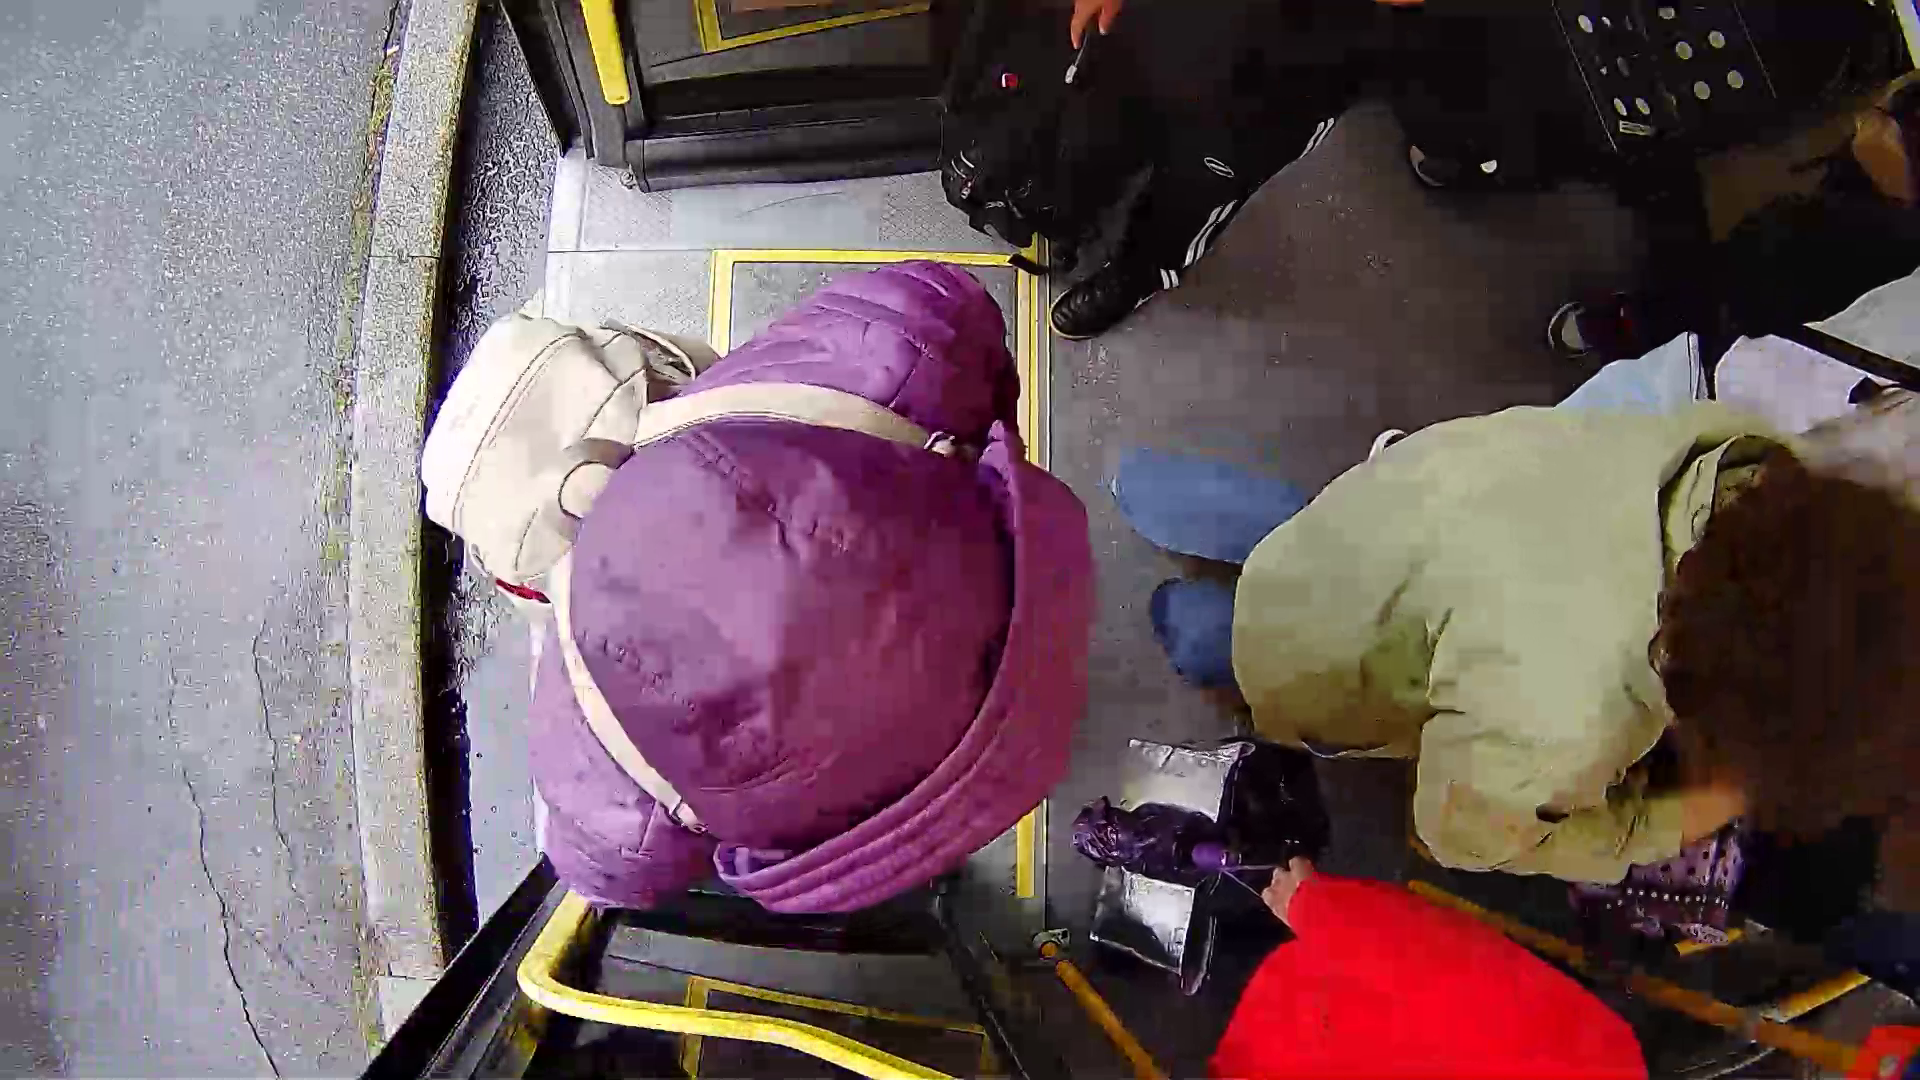person: (395, 269, 1127, 890), (1245, 353, 1920, 924)
